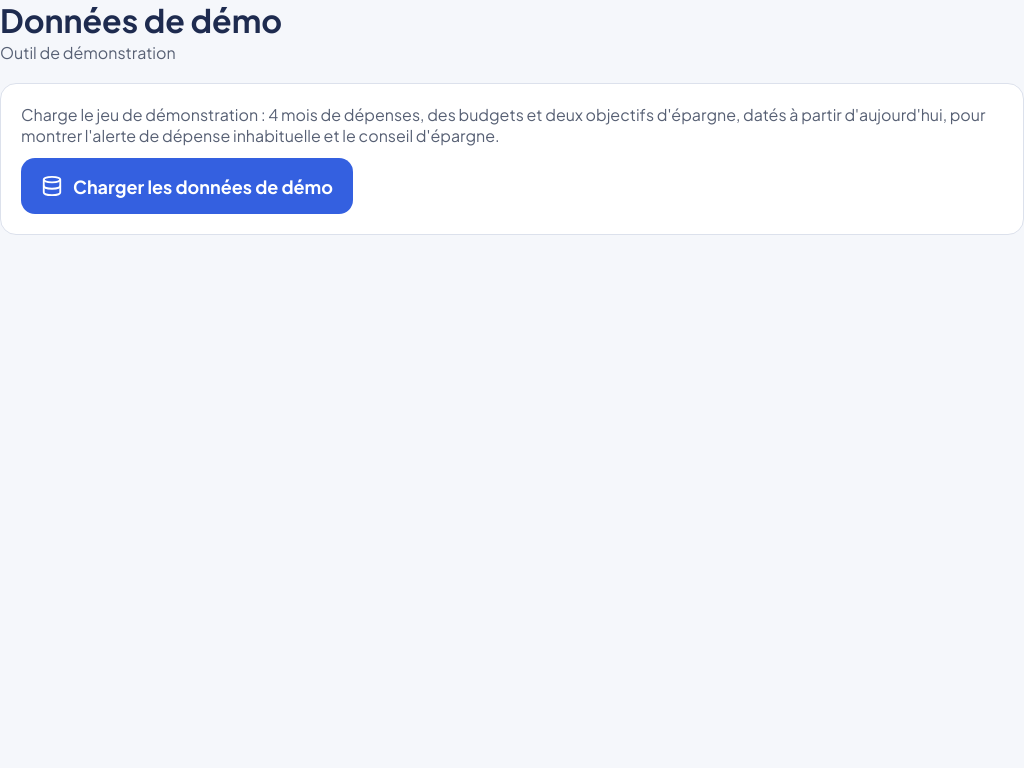
Scenario: page /demo › confirmation avec le message de la spec ; « Garder » n’écrit rien
Later steps or results of the test are not shown.
Check: the heading "Données de démo" is shown, box x1=0 y1=0 x2=282 y2=40
Click the button "Charger les données de démo" at (187, 186), box x1=21 y1=158 x2=353 y2=214
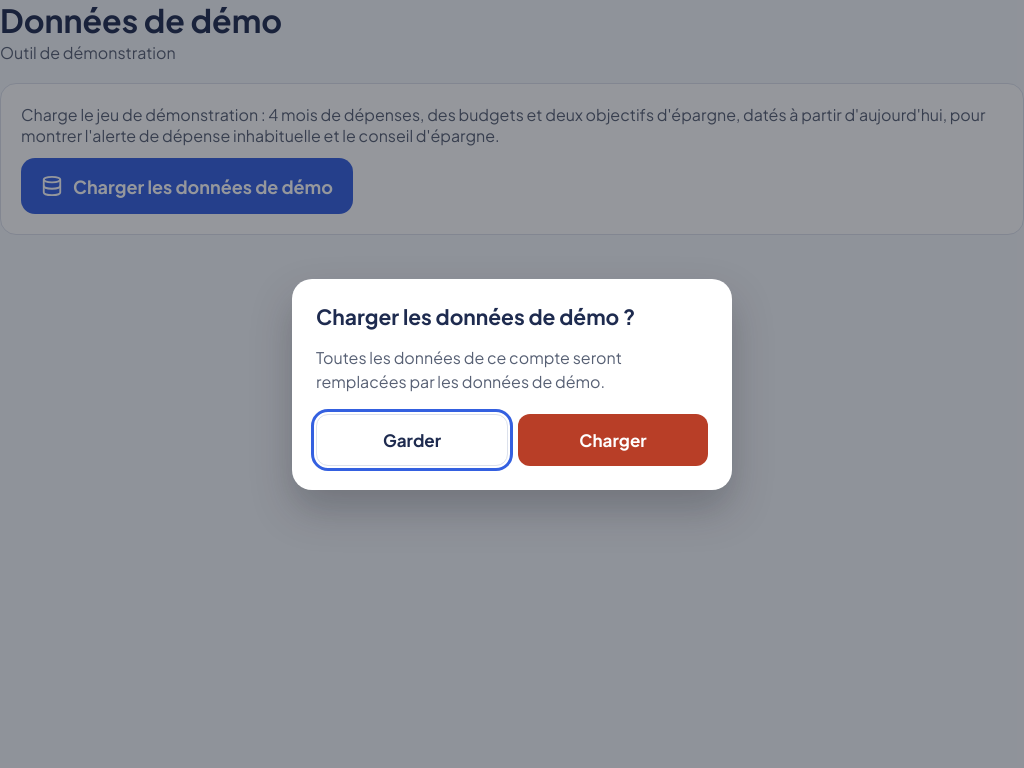
Check: the text "Toutes les données de ce compte seront remplacées par les données de démo." is shown, box x1=316 y1=346 x2=622 y2=392
